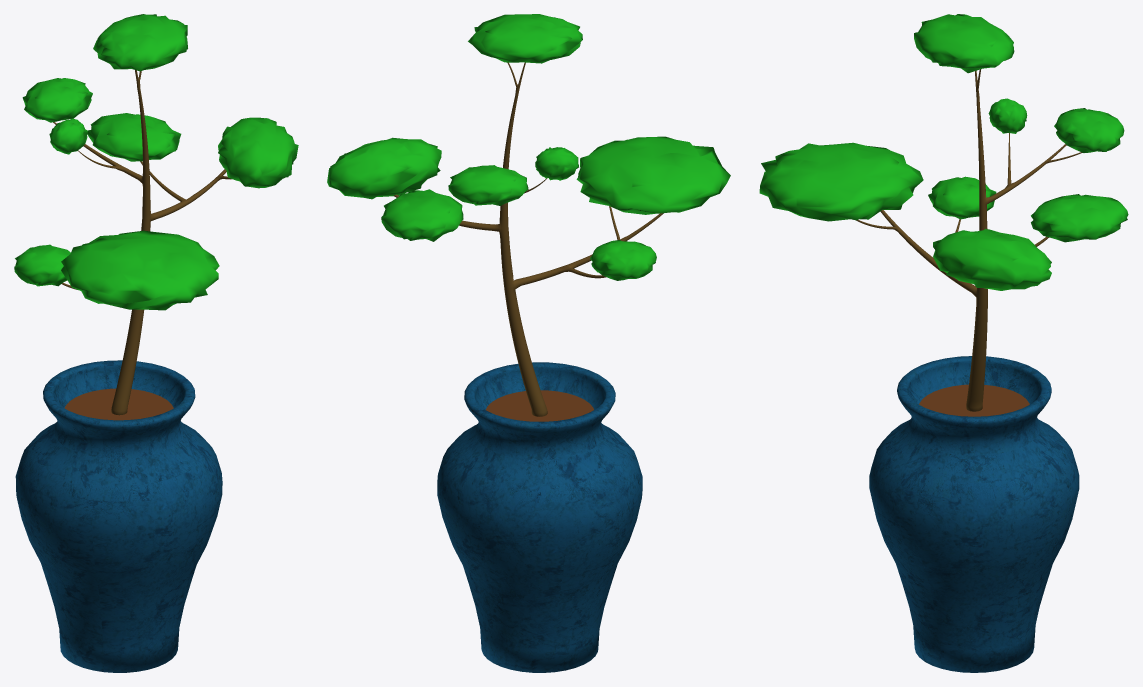
File: pottedplant.glb
3 renders of one model, left to right at view 1: azimuth 30°, elevation 25°; view 2: azimuth 150°, elevation 25°; view 3: azimuth 270°, elevation 25°, orthographic. The views are drawn at different scales.
Parts seen in each view (by area): view 1: PottedPlant; view 2: PottedPlant; view 3: PottedPlant.
Part boxes in pixels (bbox=[...]): PottedPlant: bbox=[14, 14, 298, 672]; PottedPlant: bbox=[327, 14, 730, 672]; PottedPlant: bbox=[759, 14, 1128, 672].
Size of the model in its own units: 1.77 by 3.47 by 1.84.
Materials: 4 (1 with a texture image).
